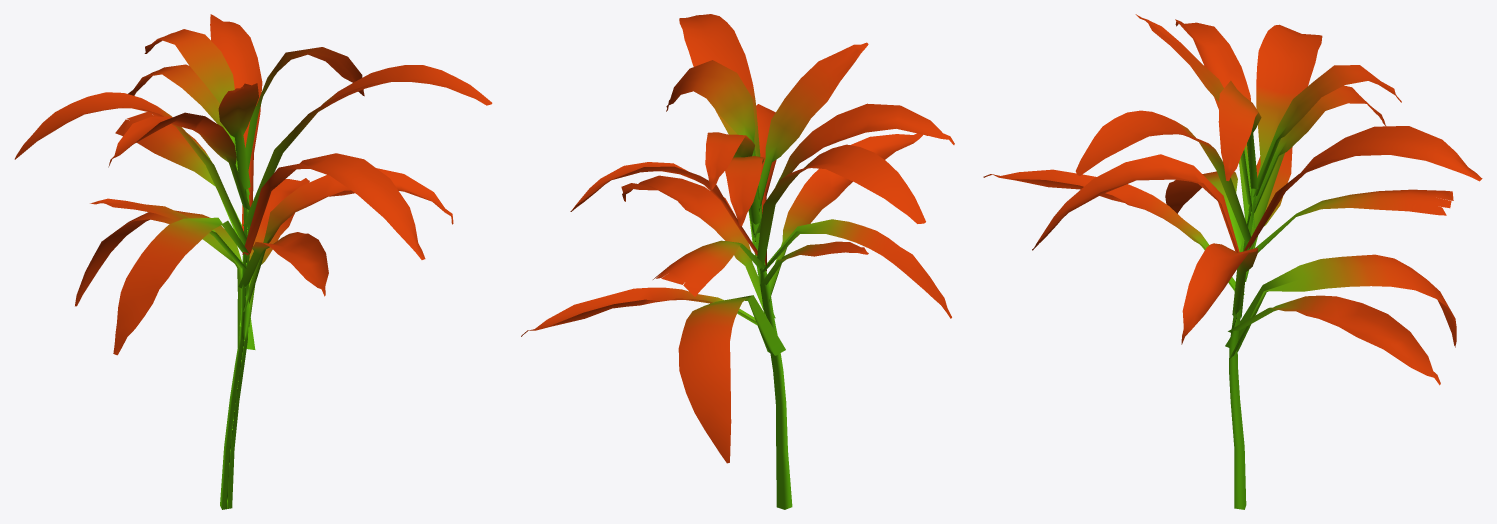
Rendered from Pink Cordyline_LOD0_Var4_sfhhN.fbx.
The picture shows the model from 3 angles, left to right: view 1: azimuth 30°, elevation 25°; view 2: azimuth 150°, elevation 25°; view 3: azimuth 270°, elevation 25°; orthographic projection. The views are drawn at different scales.
Visible parts, largest first — view 1: _92b2_Var4_LOD0; view 2: _92b2_Var4_LOD0; view 3: _92b2_Var4_LOD0.
Part boxes in pixels (box(x1,y1,x2,y2)): _92b2_Var4_LOD0: box(14, 14, 492, 509); _92b2_Var4_LOD0: box(521, 14, 954, 509); _92b2_Var4_LOD0: box(983, 14, 1482, 509).
Size of the model in its own units: 83.07 by 97 by 92.39.
